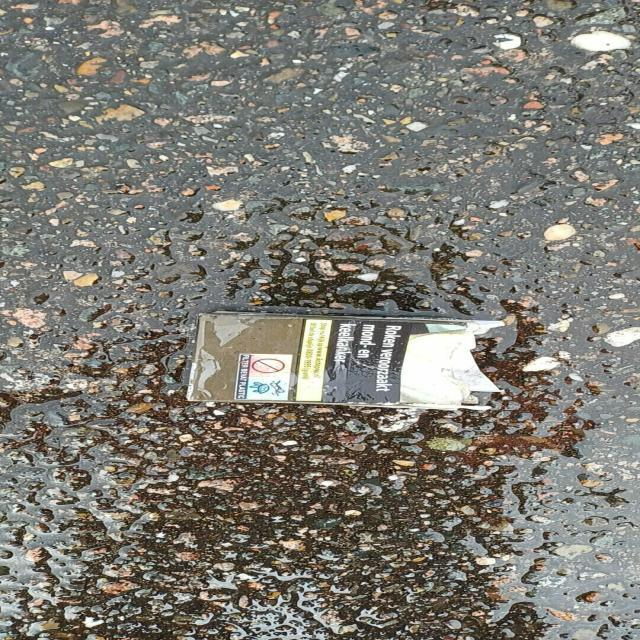Paper: (182, 308, 509, 413)
